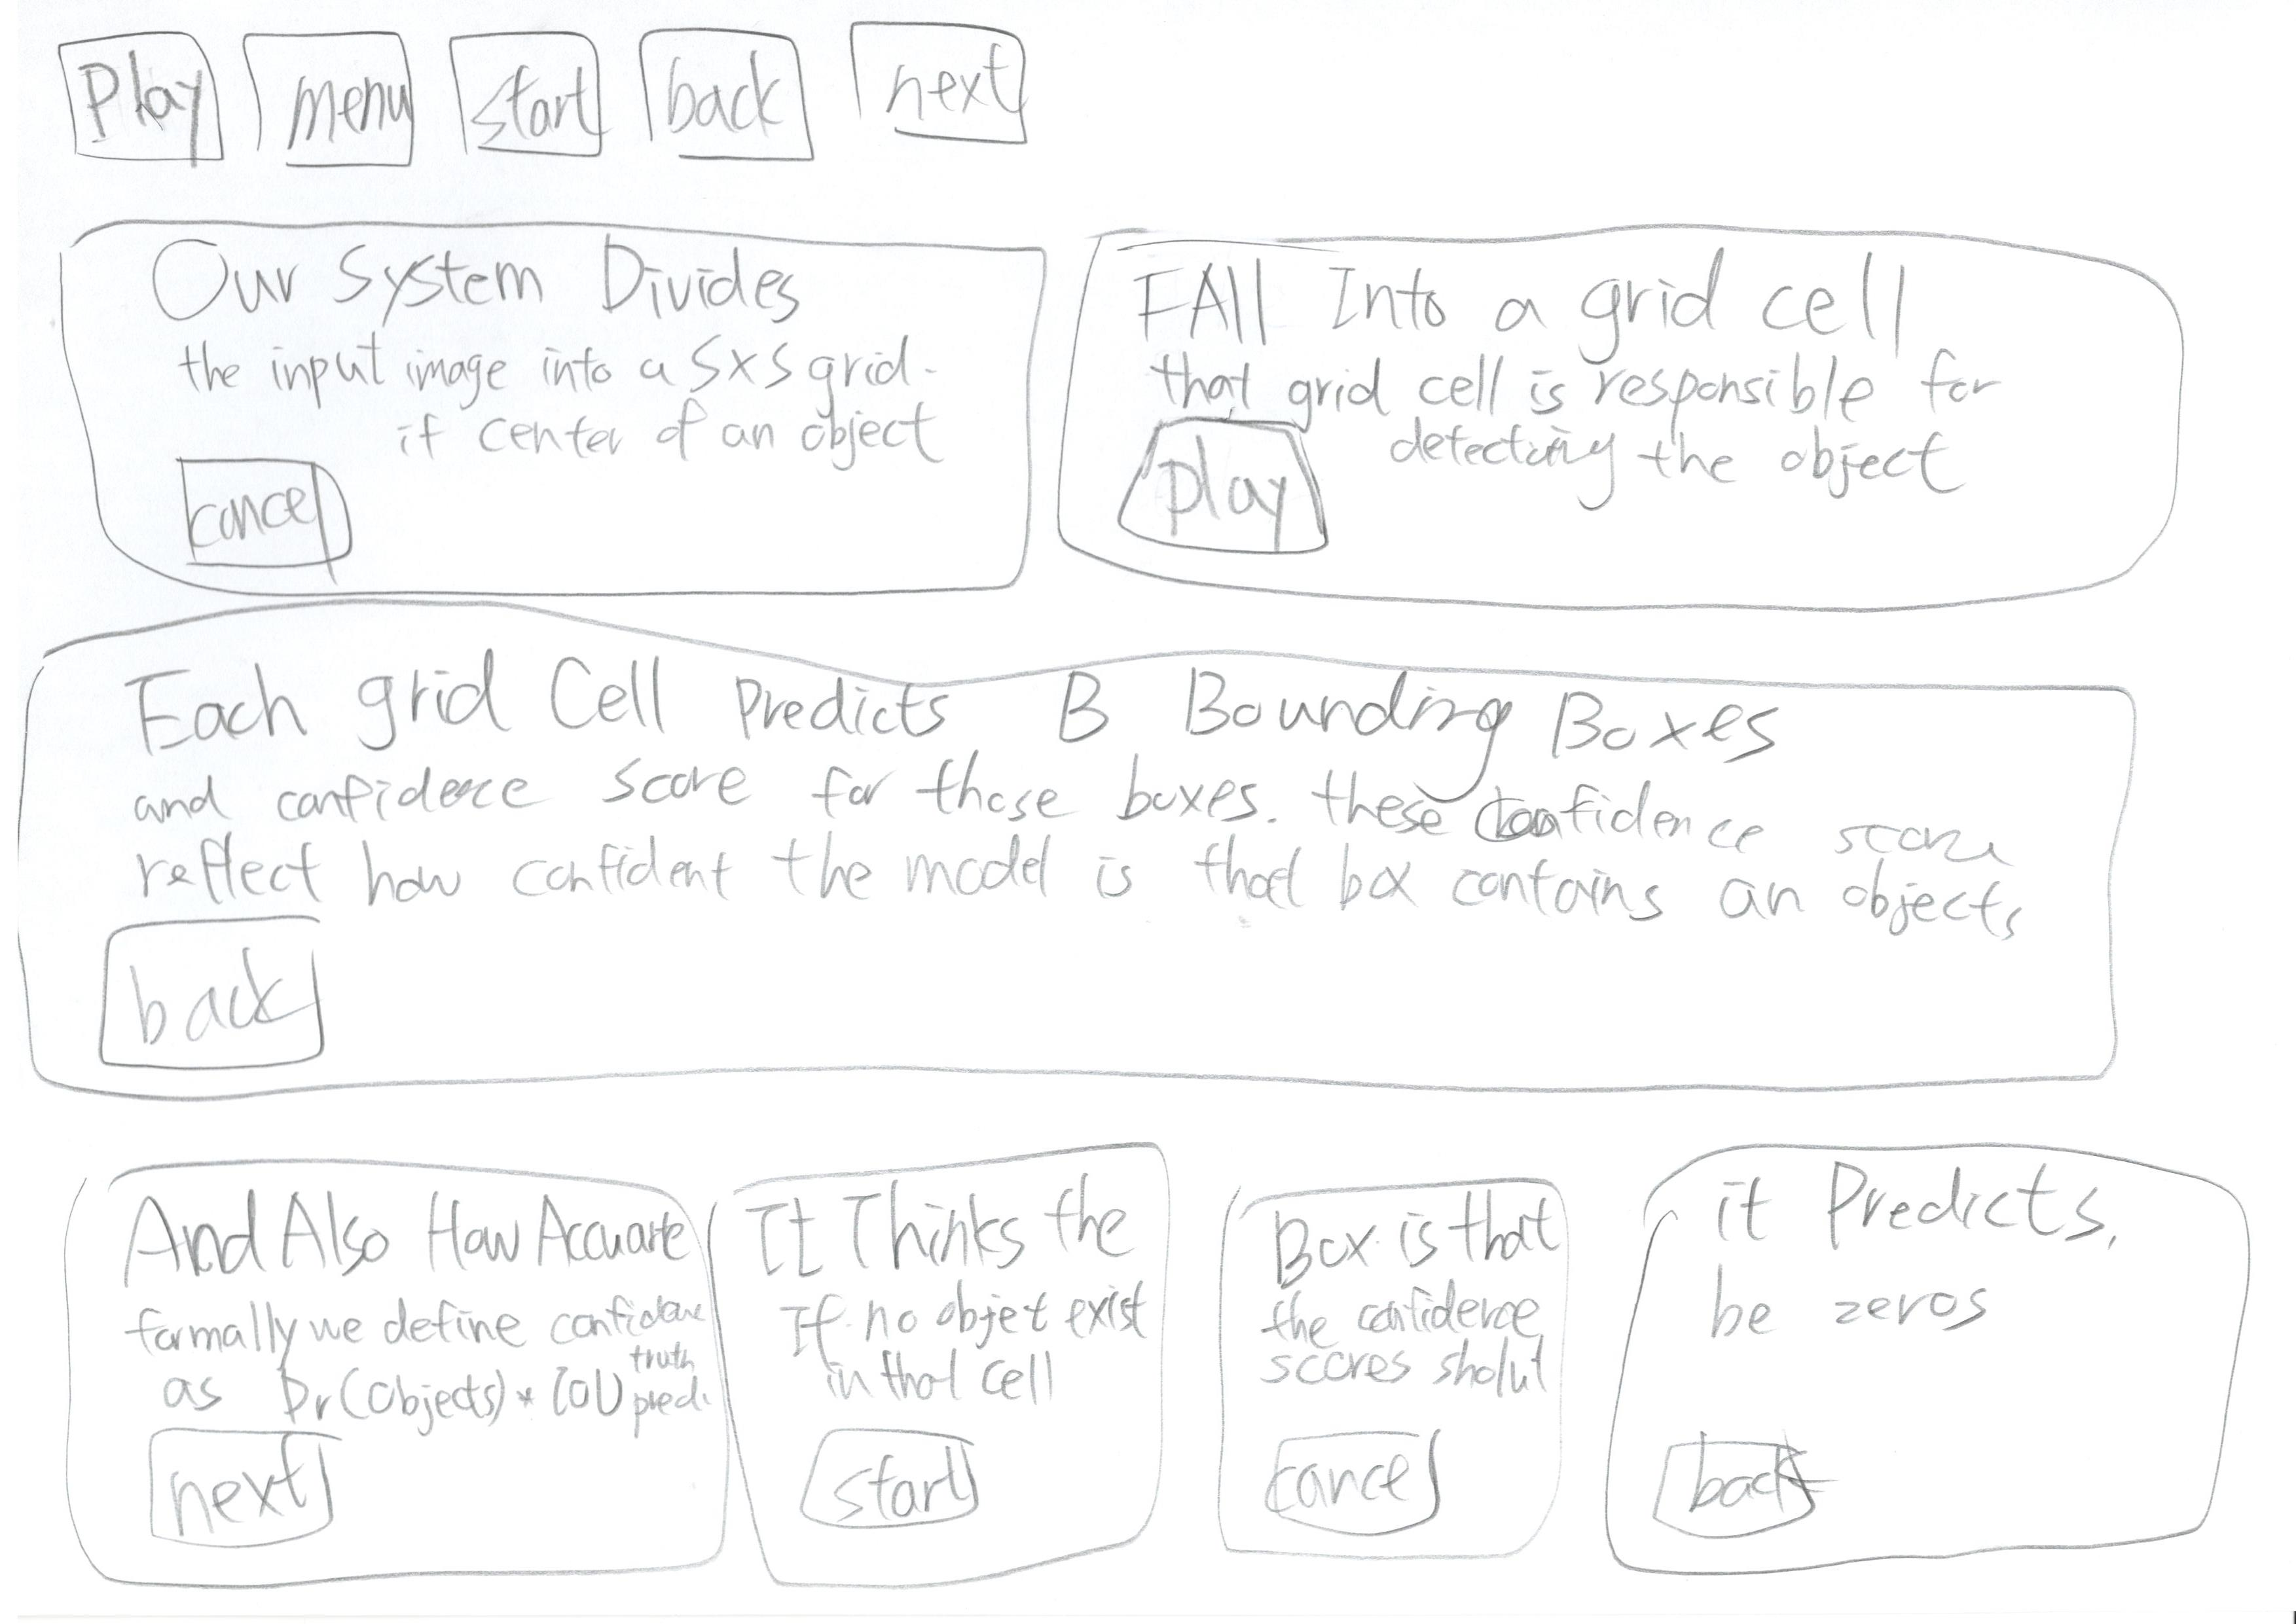back: (84, 902, 364, 1093), (1633, 1399, 1869, 1564), (621, 4, 823, 181)
cancel: (1227, 1415, 1489, 1555), (156, 438, 381, 589)
double: (1044, 183, 2256, 643), (35, 183, 1067, 649)
menu: (241, 0, 441, 206)
next: (833, 0, 1079, 167), (123, 1408, 376, 1570)
play: (40, 5, 236, 188)
quadruple: (1573, 1111, 2296, 1620), (35, 1134, 759, 1624), (694, 1116, 1180, 1624), (1195, 1116, 1614, 1624)
row: (0, 589, 2296, 1113), (0, 1084, 2296, 1606), (0, 185, 2296, 633), (12, 0, 2264, 225)
single: (4, 596, 2257, 1137)
small-title: (98, 649, 1816, 766), (1139, 234, 1913, 357), (113, 1158, 665, 1285), (153, 246, 821, 344), (731, 1172, 1132, 1294), (1698, 1155, 2113, 1271), (1268, 1186, 1558, 1288)
start: (443, 4, 631, 185), (775, 1415, 1009, 1550)
text: (120, 756, 2050, 933), (1401, 353, 2011, 524), (403, 334, 965, 497), (156, 316, 946, 425), (1139, 336, 2029, 429), (155, 1278, 689, 1424), (777, 1280, 1160, 1406), (1253, 1285, 1549, 1401), (1697, 1280, 2013, 1367)
